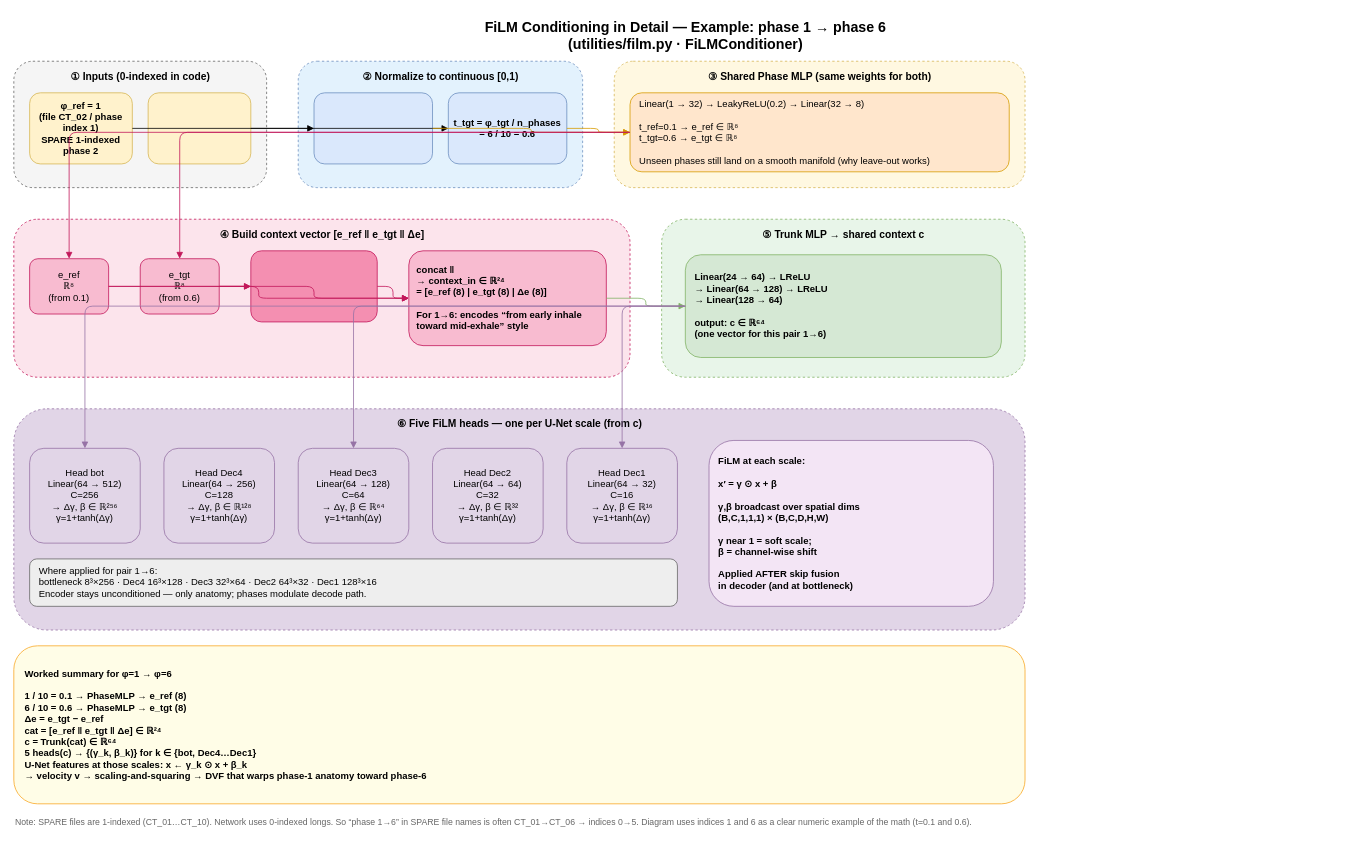
Image size: 1371x856. Some labels were removed from this diagram. Here are the shapes that lost their labels. From the top down, the box of each, then its label:
(147, 92, 251, 164): φ_tgt = 6 (file CT_07 / phase index 6) SPARE 1-indexed phase 7
(313, 92, 433, 164): t_ref = φ_ref / n_phases = 1 / 10 = 0.1
(250, 250, 377, 322): Δe = e_tgt − e_ref ℝ⁸ “motion direction” in embedding space
